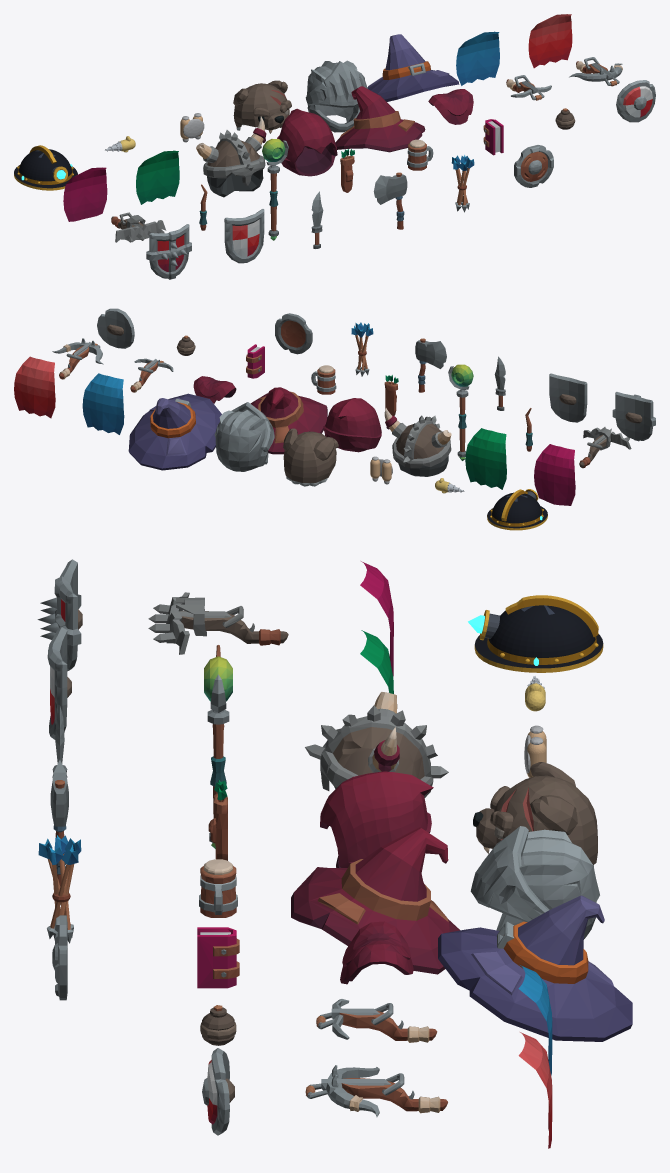
The model's file is gear.glb.
3 renders of one model, top to bottom at view 1: azimuth 30°, elevation 25°; view 2: azimuth 150°, elevation 25°; view 3: azimuth 270°, elevation 25°, orthographic. The views are drawn at different scales.
Visible parts, largest first — view 1: G_BoneHelm, G_WitchHat, G_KnightHelm, G_WizardHat, G_ShadeHood, G_BearHat, G_HardHat, G_MageCape, G_KnightCape, G_RangerCape, G_RogueCape, G_ShieldSpikes (+15 smaller); view 2: G_WizardHat, G_KnightHelm, G_BoneHelm, G_WitchHat, G_BearHat, G_ShadeHood, G_MageCape, G_KnightCape, G_RangerCape, G_RogueCape, G_HardHat, G_ShieldSpikes (+15 smaller); view 3: G_WizardHat, G_WitchHat, G_KnightHelm, G_HardHat, G_BoneHelm, G_ShadeHood, G_BearHat, G_BoneCrossbow, G_Crossbow2H, G_GraveCloak, G_Tome, G_Crossbow1H (+15 smaller).
Boxes of the visible parts, x1=… form: G_BoneHelm: x1=196, y1=116, x2=266, y2=197; G_WitchHat: x1=335, y1=86, x2=425, y2=152; G_KnightHelm: x1=305, y1=60, x2=367, y2=132; G_WizardHat: x1=367, y1=34, x2=459, y2=101; G_ShadeHood: x1=277, y1=108, x2=337, y2=176; G_BearHat: x1=233, y1=80, x2=291, y2=133; G_HardHat: x1=14, y1=145, x2=77, y2=190; G_MageCape: x1=63, y1=167, x2=107, y2=221; G_KnightCape: x1=528, y1=14, x2=572, y2=68; G_RangerCape: x1=456, y1=31, x2=499, y2=85; G_RogueCape: x1=136, y1=150, x2=179, y2=204; G_ShieldSpikes: x1=146, y1=224, x2=191, y2=279; G_WizardHat: x1=128, y1=393, x2=221, y2=470; G_KnightHelm: x1=214, y1=402, x2=274, y2=471; G_BoneHelm: x1=384, y1=408, x2=451, y2=476; G_WitchHat: x1=250, y1=387, x2=327, y2=454; G_BearHat: x1=283, y1=428, x2=338, y2=486; G_ShadeHood: x1=323, y1=398, x2=381, y2=452; G_MageCape: x1=534, y1=444, x2=575, y2=505; G_KnightCape: x1=14, y1=356, x2=55, y2=418; G_RangerCape: x1=82, y1=373, x2=124, y2=434; G_RogueCape: x1=465, y1=428, x2=506, y2=489; G_HardHat: x1=487, y1=489, x2=547, y2=530; G_ShieldSpikes: x1=612, y1=392, x2=655, y2=441; G_WizardHat: x1=438, y1=895, x2=632, y2=1041; G_WitchHat: x1=291, y1=827, x2=459, y2=974; G_KnightHelm: x1=470, y1=826, x2=599, y2=939; G_HardHat: x1=468, y1=595, x2=603, y2=672; G_BoneHelm: x1=305, y1=692, x2=448, y2=797; G_ShadeHood: x1=320, y1=771, x2=433, y2=867; G_BearHat: x1=473, y1=762, x2=597, y2=866; G_BoneCrossbow: x1=148, y1=592, x2=288, y2=654; G_Crossbow2H: x1=305, y1=1065, x2=447, y2=1117; G_GraveCloak: x1=340, y1=921, x2=413, y2=984; G_Tome: x1=197, y1=927, x2=239, y2=988; G_Crossbow1H: x1=316, y1=999, x2=437, y2=1042.
Bounding box in the file's own units: 12.41 × 2.15 × 6.01.
